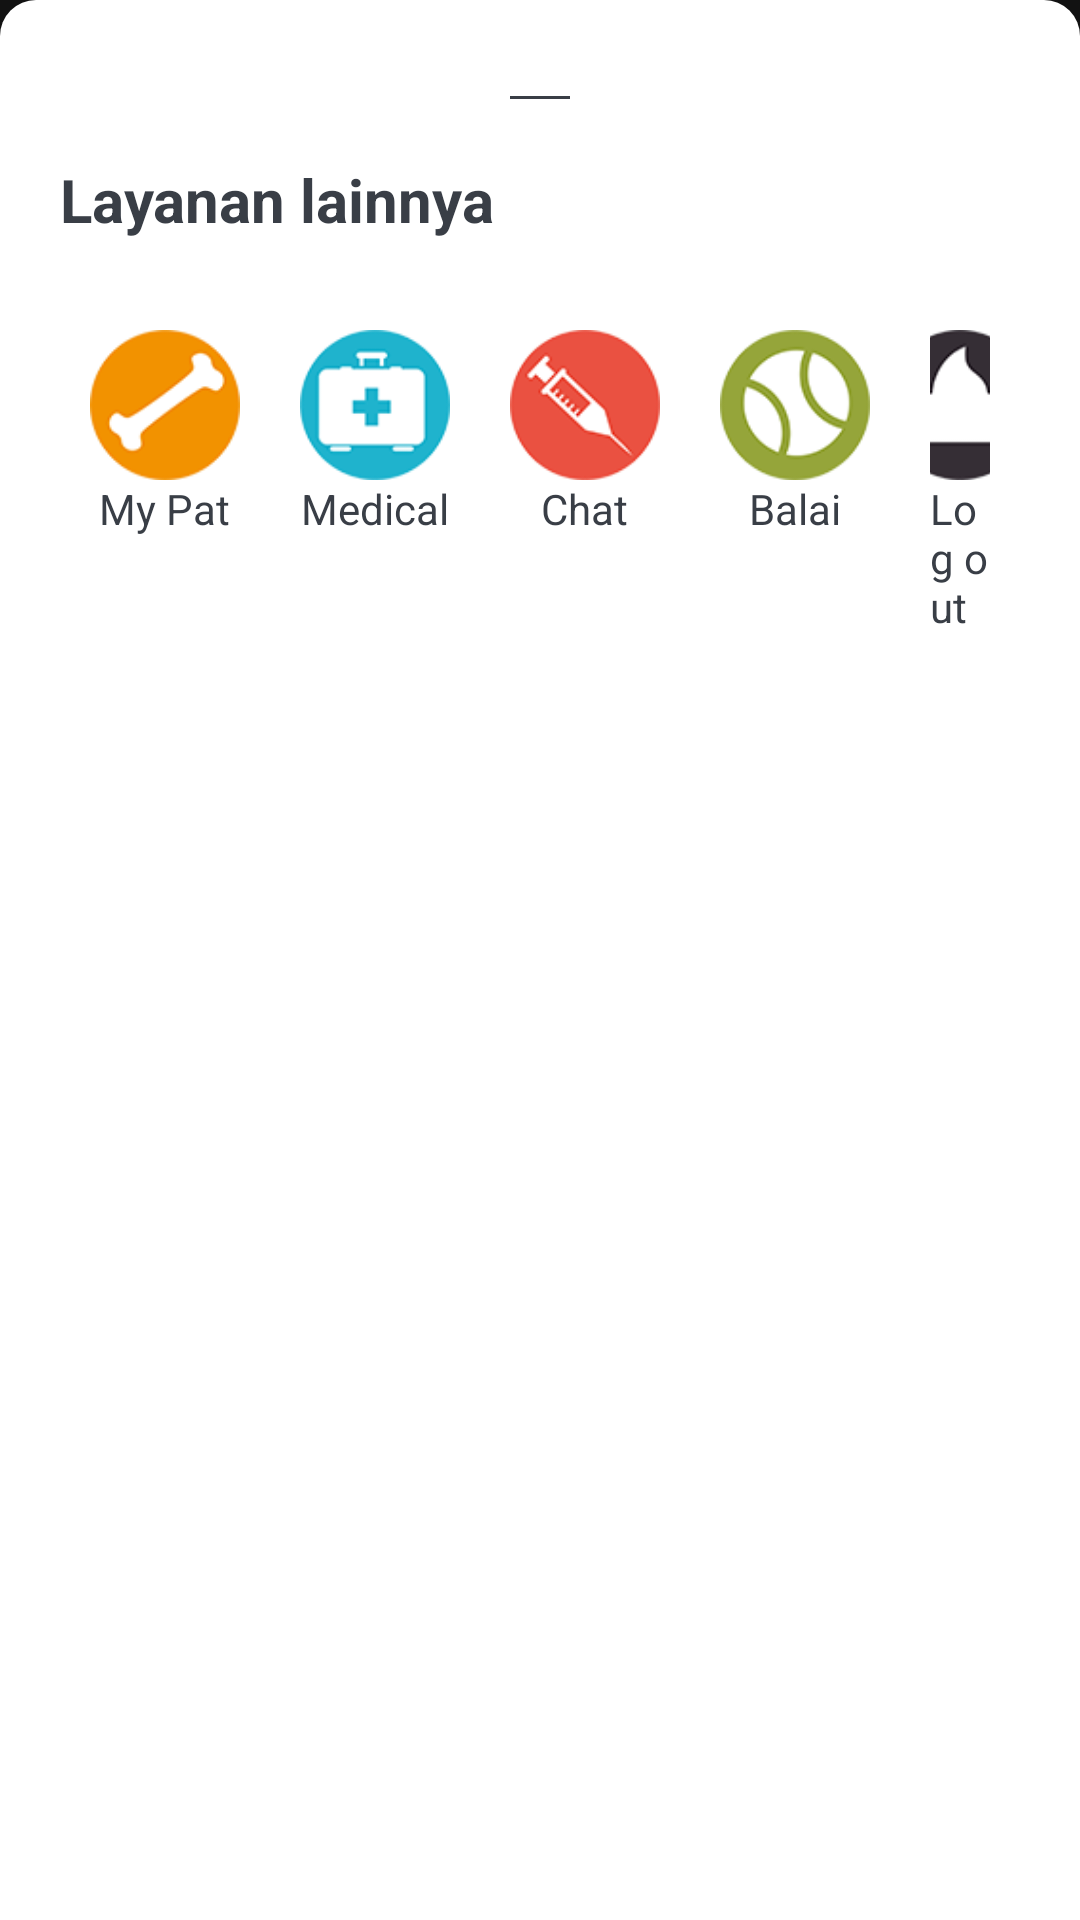

Icon click points for this 1080×1920 phone screenshot, format (x=x, y=y):
bola: (x=795, y=405)
suntik: (x=585, y=405)
